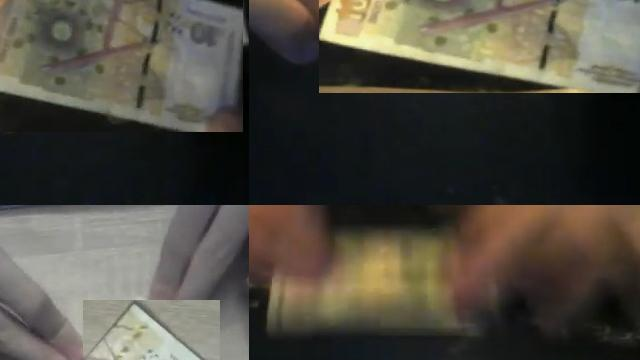10leva: (83, 300, 206, 360)
